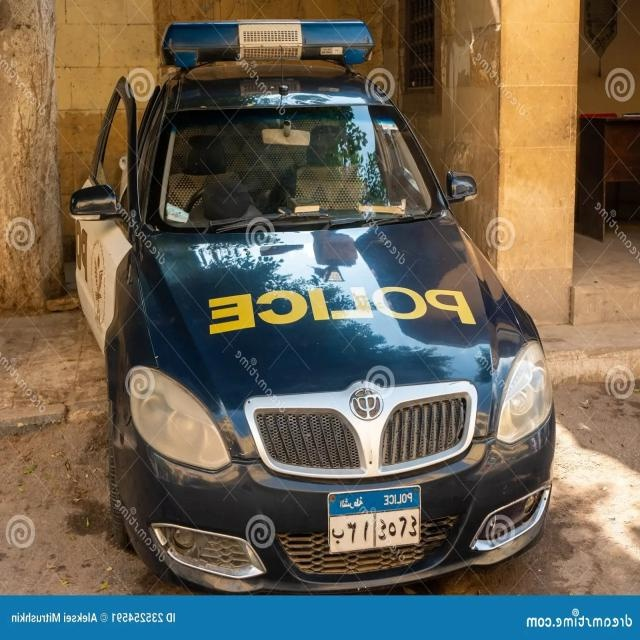police-car: (69, 18, 557, 595)
